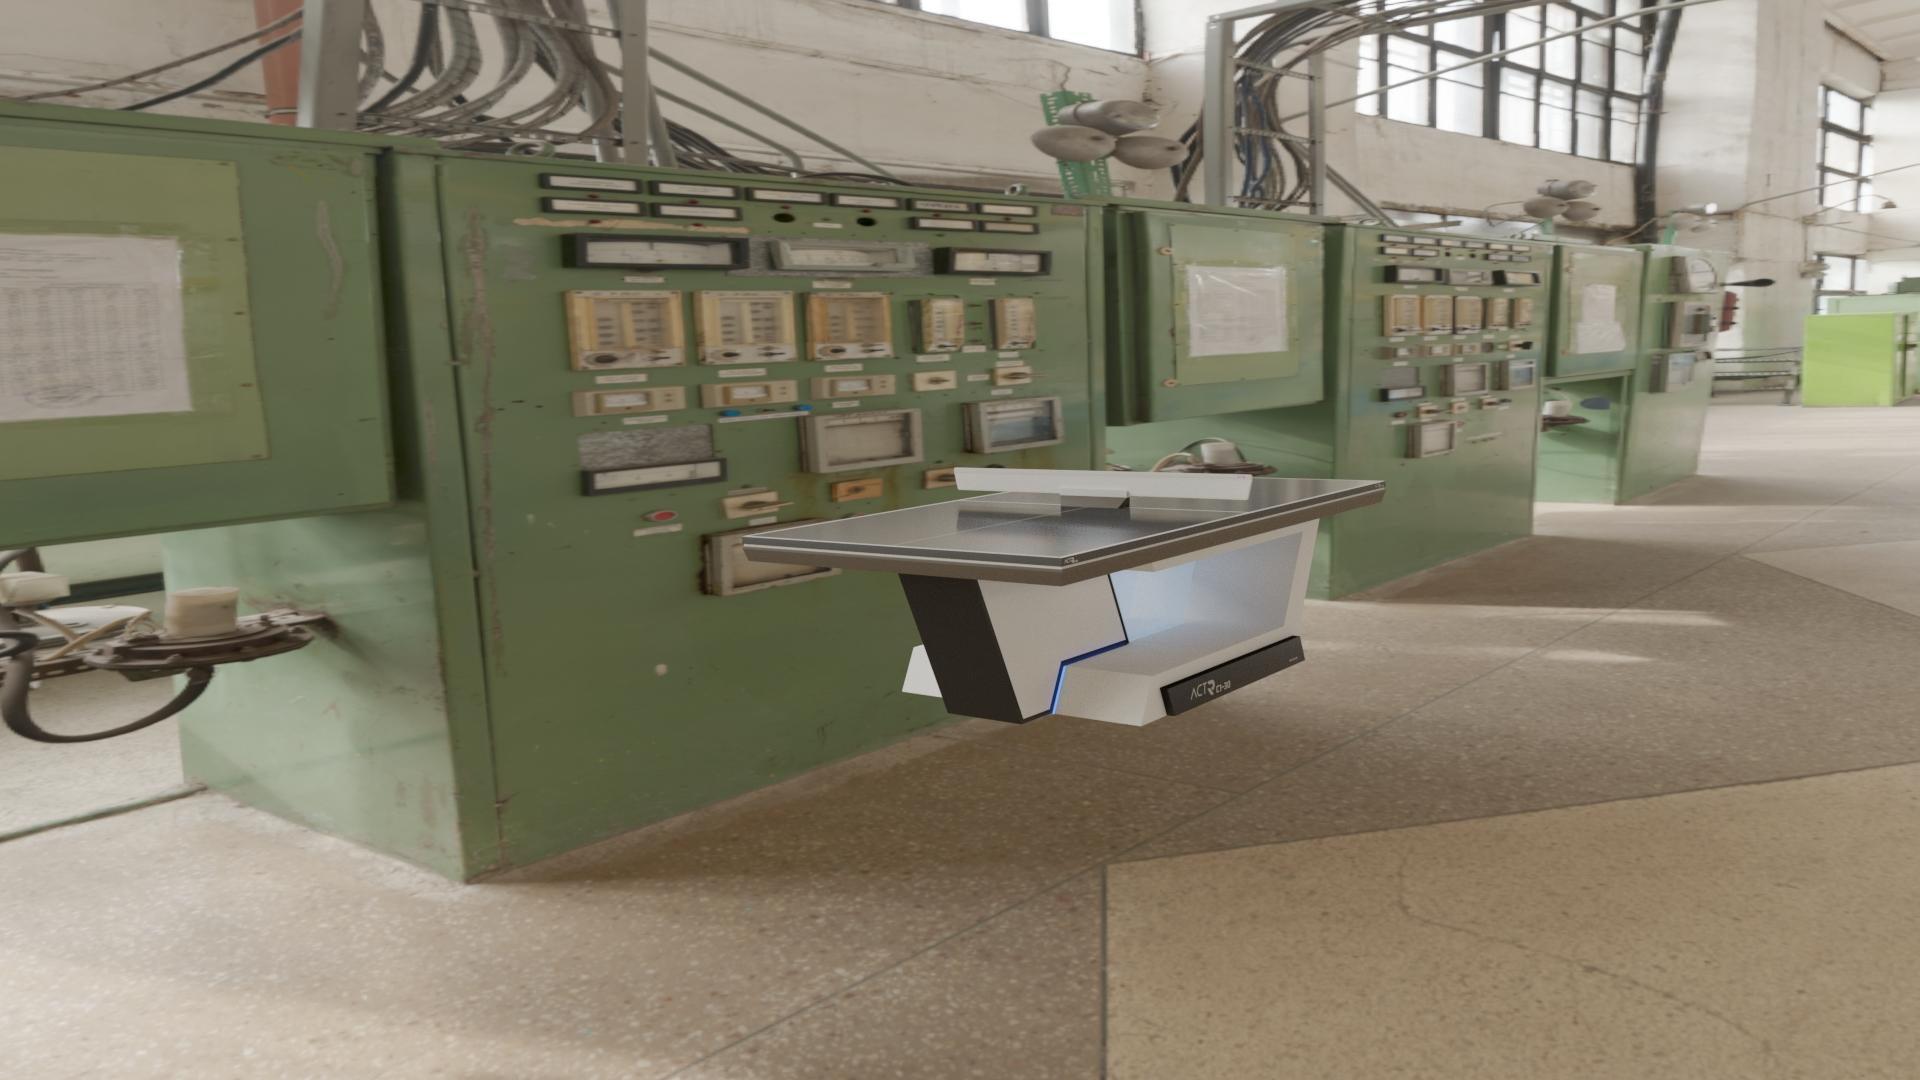table: (749, 475, 1381, 556)
